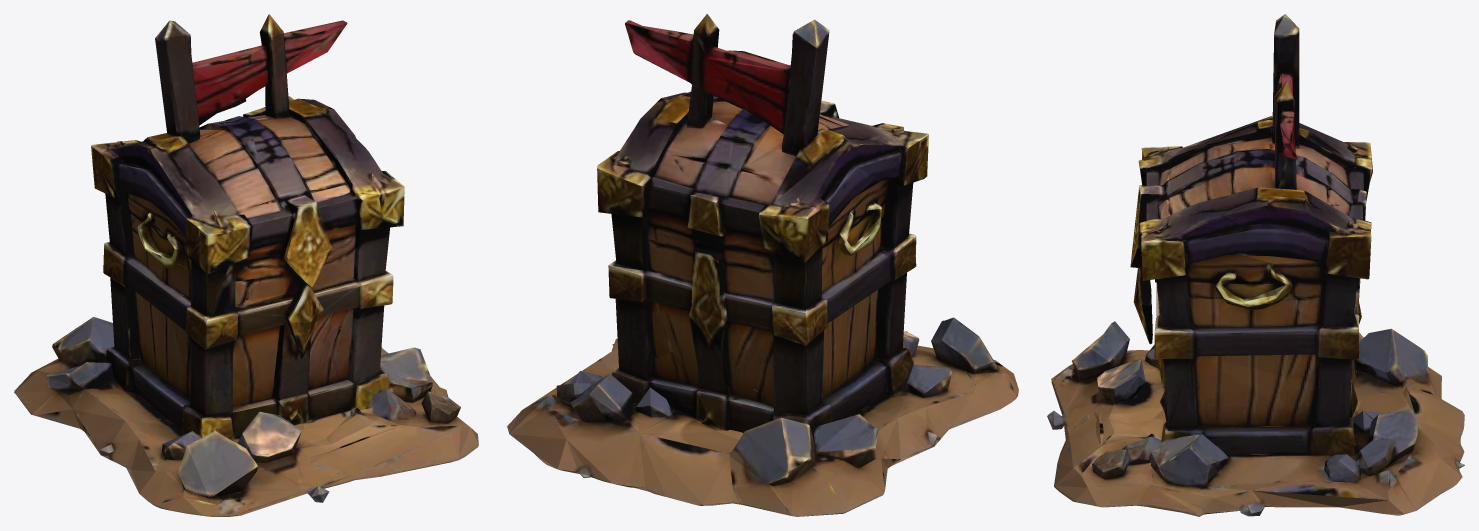
File: orc_loot_pile_01.glb
3 views of the same model, side by side, from view 1: azimuth 30°, elevation 25°; view 2: azimuth 150°, elevation 25°; view 3: azimuth 270°, elevation 25° (orthographic). The views are drawn at different scales.
Visible parts, largest first — view 1: geometry_0; view 2: geometry_0; view 3: geometry_0.
Boxes of the visible parts, x1,y1,x2,y2 form: geometry_0: (14,14,478,516); geometry_0: (507,14,1018,516); geometry_0: (1047,14,1464,516).
Bounding box in the file's own units: 0.8696 × 0.9999 × 0.9467.
Materials: 1 (1 with a texture image).
